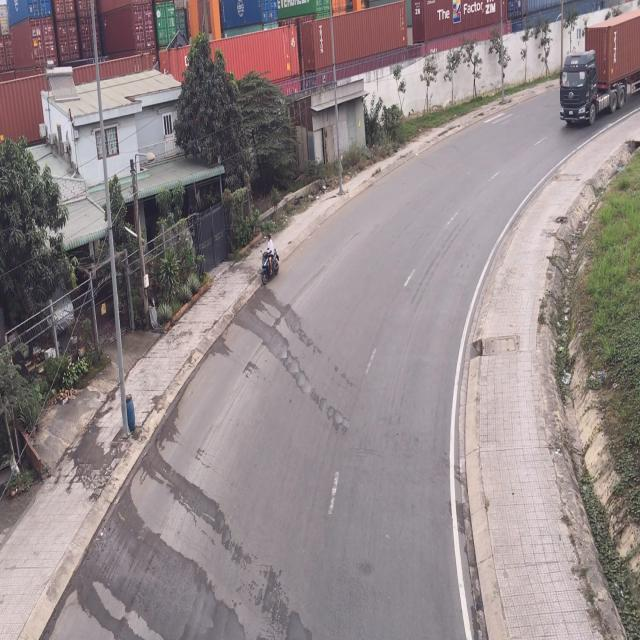motorbike: (262, 236, 282, 286)
truck: (557, 9, 638, 130)
